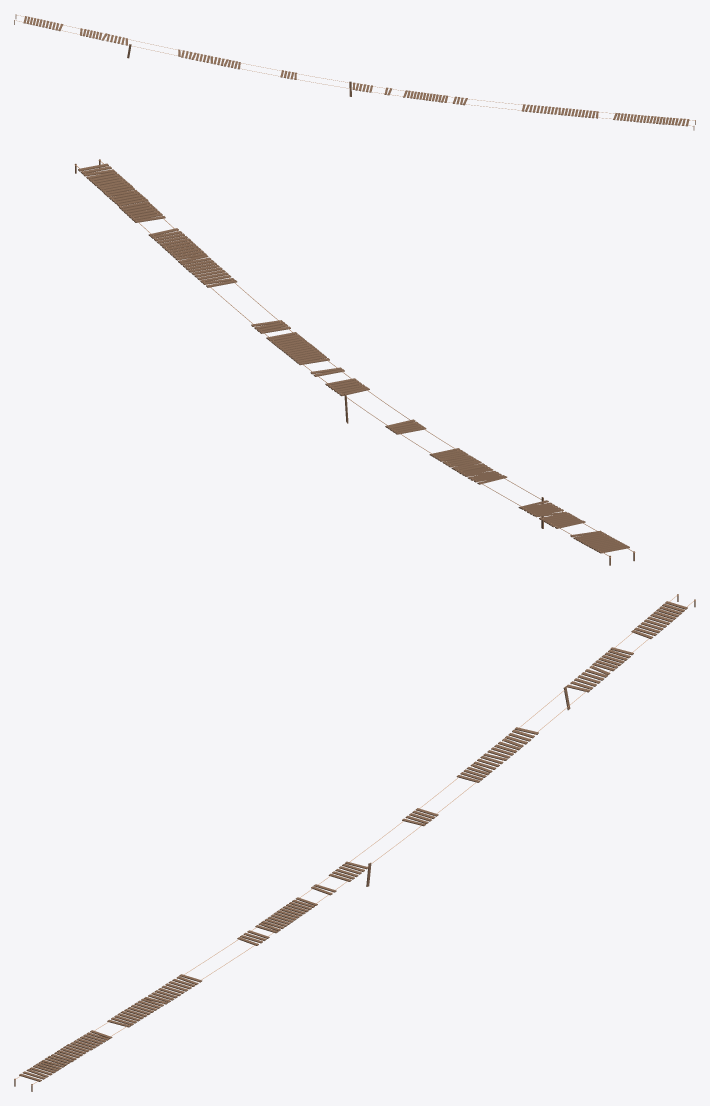
Rendered from Bridge002.fbx.
3 renders of one model, top to bottom at view 1: azimuth 30°, elevation 25°; view 2: azimuth 150°, elevation 25°; view 3: azimuth 270°, elevation 25°, orthographic. The views are drawn at different scales.
Visible parts, largest first — view 1: Wood.134; view 2: Wood.134; view 3: Wood.134.
Boxes of the visible parts, x1,y1,x2,y2 form: Wood.134: [14, 14, 695, 130]; Wood.134: [74, 159, 635, 565]; Wood.134: [14, 594, 695, 1091].
Bounding box in the file's own units: 10333 × 1540 × 7887.
